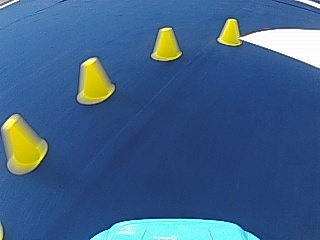cone: (1, 114, 47, 175), (76, 56, 115, 104), (151, 27, 182, 61), (217, 18, 241, 46)
